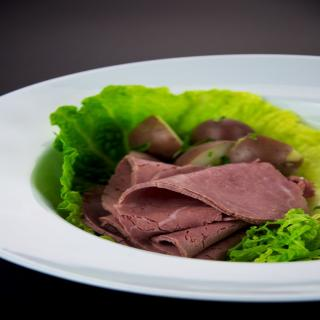Salad: (16, 87, 320, 278)
